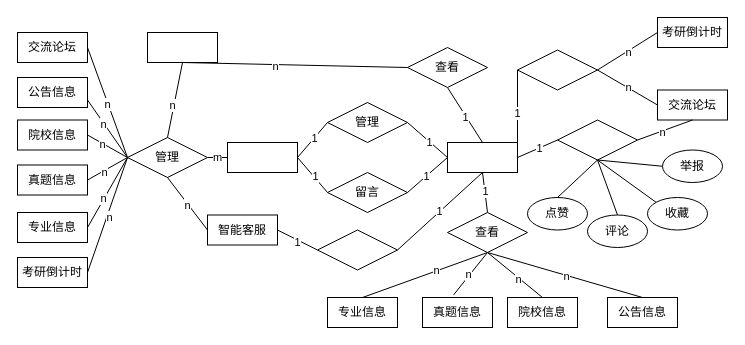
This 745x345 diagram has some shape labels left out. The centre of each missing label's shape, as x and y in pixels:
发布: point 557,69
小程序用户: point 482,157
提问: point 357,249
浏览: point 597,139
管理员: point 262,157
系统页面: point 182,47
